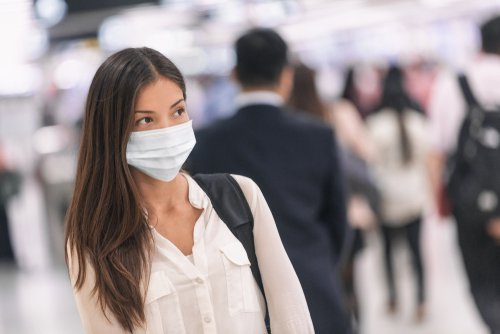mask: (78, 47, 217, 187)
